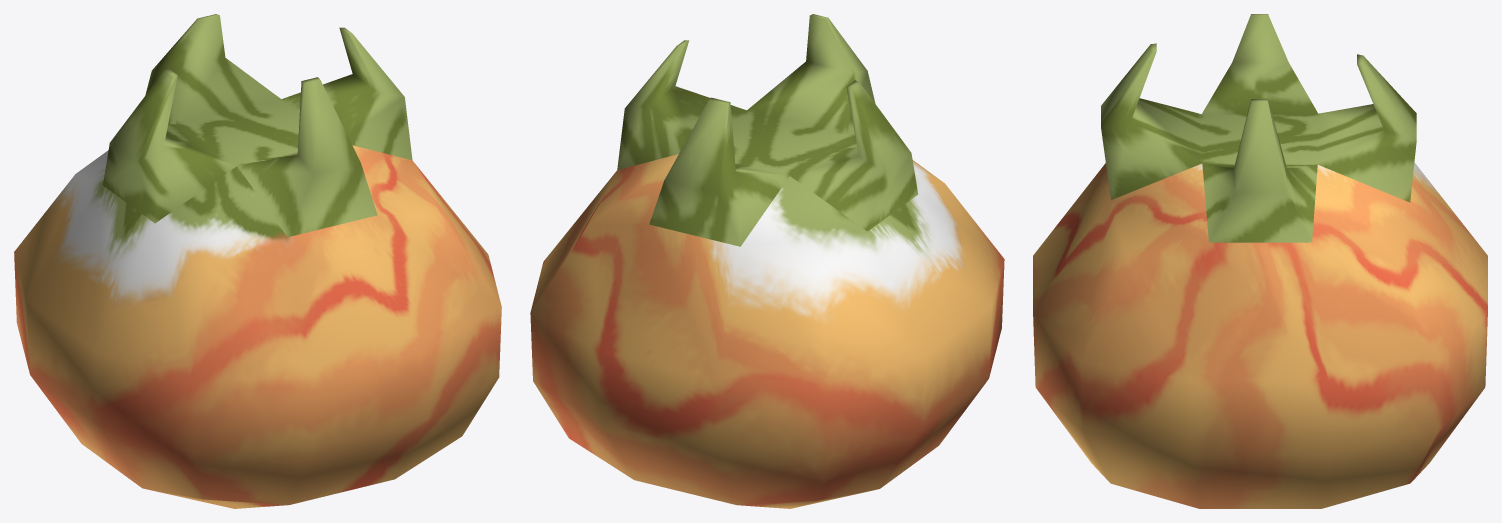
File: Seeds.fbx_StrangeSeed.fbx
3 renders of one model, left to right at view 1: azimuth 30°, elevation 25°; view 2: azimuth 150°, elevation 25°; view 3: azimuth 270°, elevation 25°, orthographic. The views are drawn at different scales.
Parts seen in each view (by area): view 1: StrangeSeed; view 2: StrangeSeed; view 3: StrangeSeed.
Boxes of the visible parts, <box> form: StrangeSeed: <box>14,14,501,508</box>; StrangeSeed: <box>530,14,1004,508</box>; StrangeSeed: <box>1033,14,1487,508</box>.
Size of the model in its own units: 25.85 by 27.06 by 25.85.
